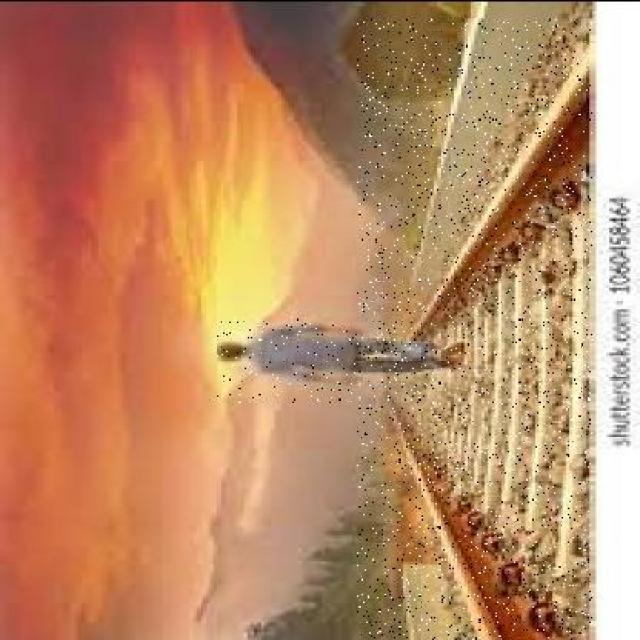rail: (359, 18, 593, 640)
